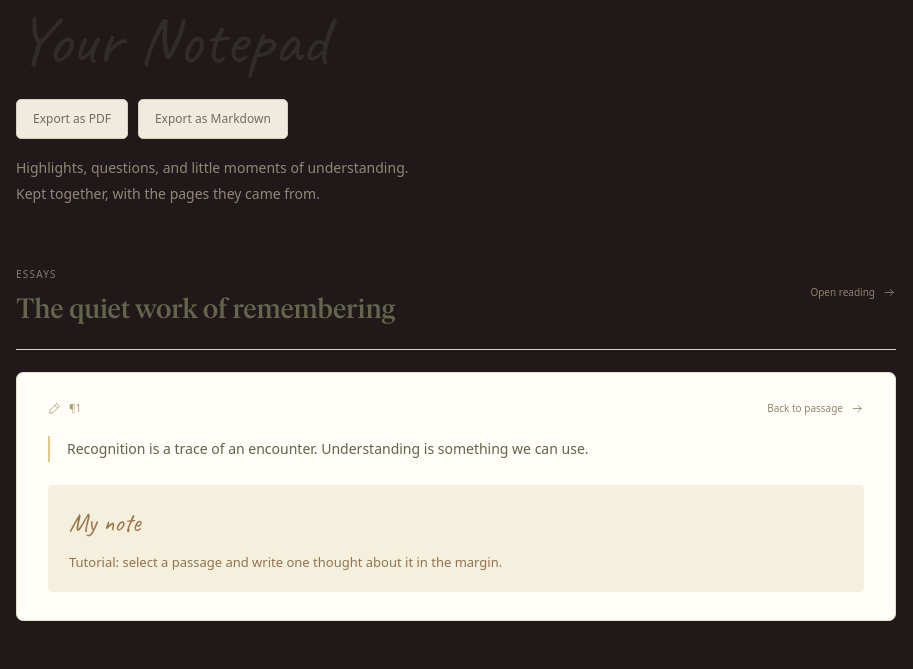
Test case: shows why an export failed
The image size is (913, 669).
Click the button "Export as PDF" at coordinates (72, 119), box x1=16 y1=99 x2=128 y2=139
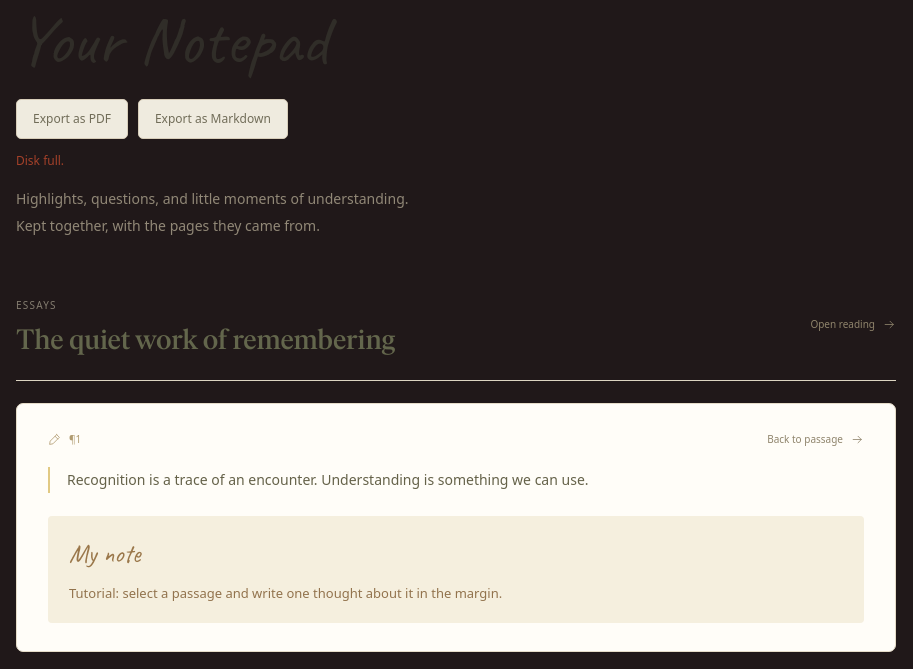
Now the message reads "Disk full.", box x1=16 y1=152 x2=64 y2=169
